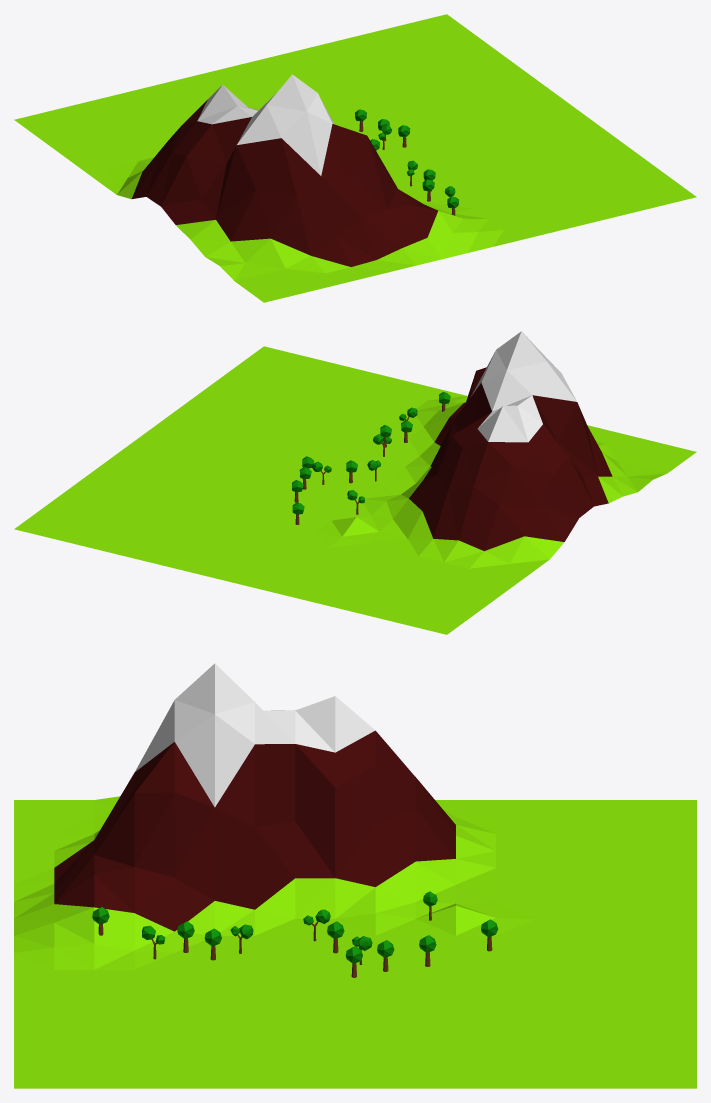
File: mountain.gltf
3 views of the same model, one above another, from view 1: azimuth 30°, elevation 25°; view 2: azimuth 150°, elevation 25°; view 3: azimuth 270°, elevation 25° (orthographic). The views are drawn at different scales.
Parts seen in each view (by area): view 1: 平面; view 2: 平面; view 3: 平面.
Part boxes in pixels (bbox=[...]): 平面: bbox=[14, 14, 696, 302]; 平面: bbox=[14, 331, 696, 634]; 平面: bbox=[14, 663, 696, 1088].
Size of the model in its own units: 16 by 5.3 by 16.
